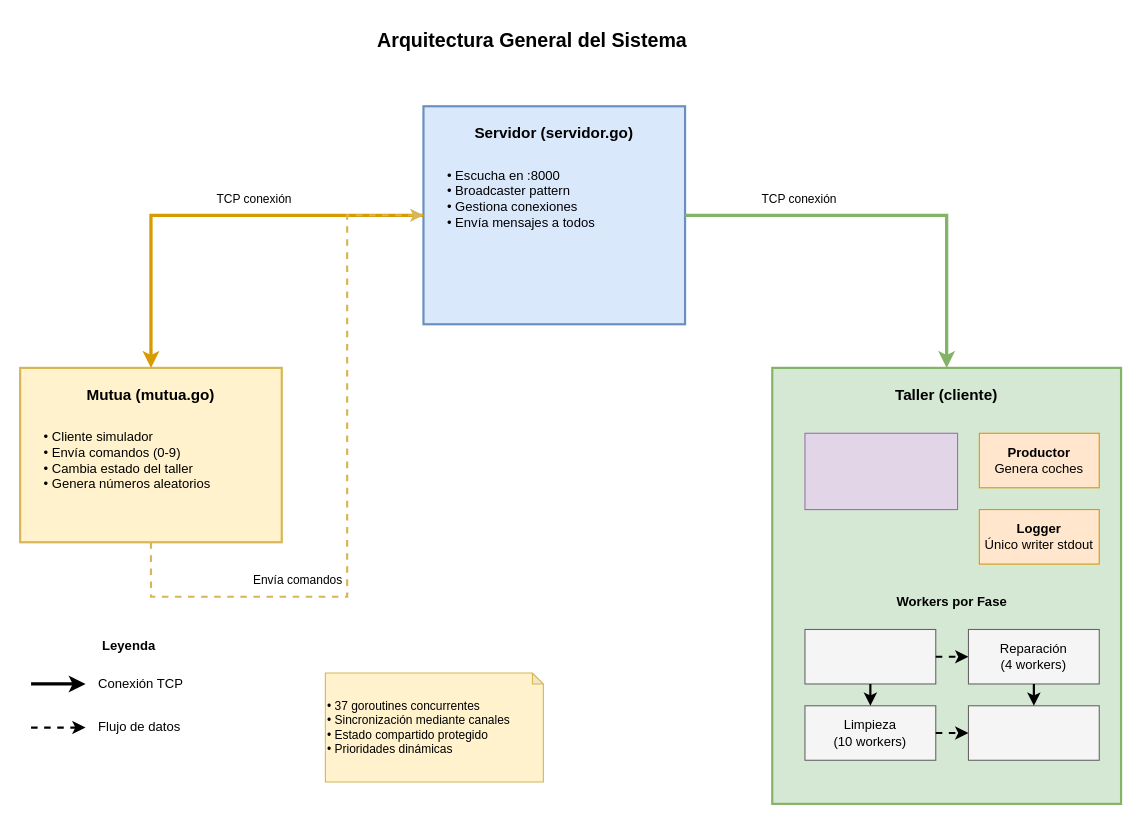
Image size: 1140x823. Some labels were removed from this diagram. The shapes that lost their labels are listed below. From the top down, each one's centre as x and y in pixels, then its label:
At [881,471]: "Garage RWMutex, cars map, atomic state, freeSlots".
At [870,656]: "Documentación (10 workers)".
At [1033,732]: "Entrega (10 workers)".
